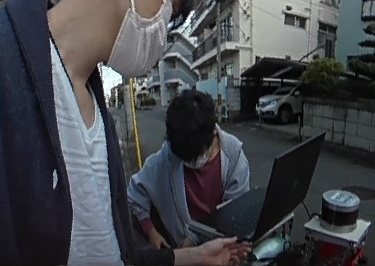person: (132, 89, 245, 261)
